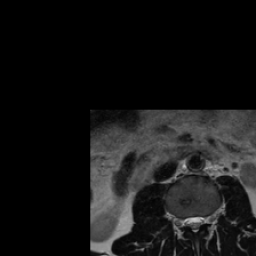CCS_normal: (191, 211, 197, 238)
LFS_normal: (204, 210, 210, 229)
LLS_normal: (197, 211, 204, 230)
RFS_normal: (178, 212, 185, 231)
RLS_normal: (184, 211, 191, 230)
